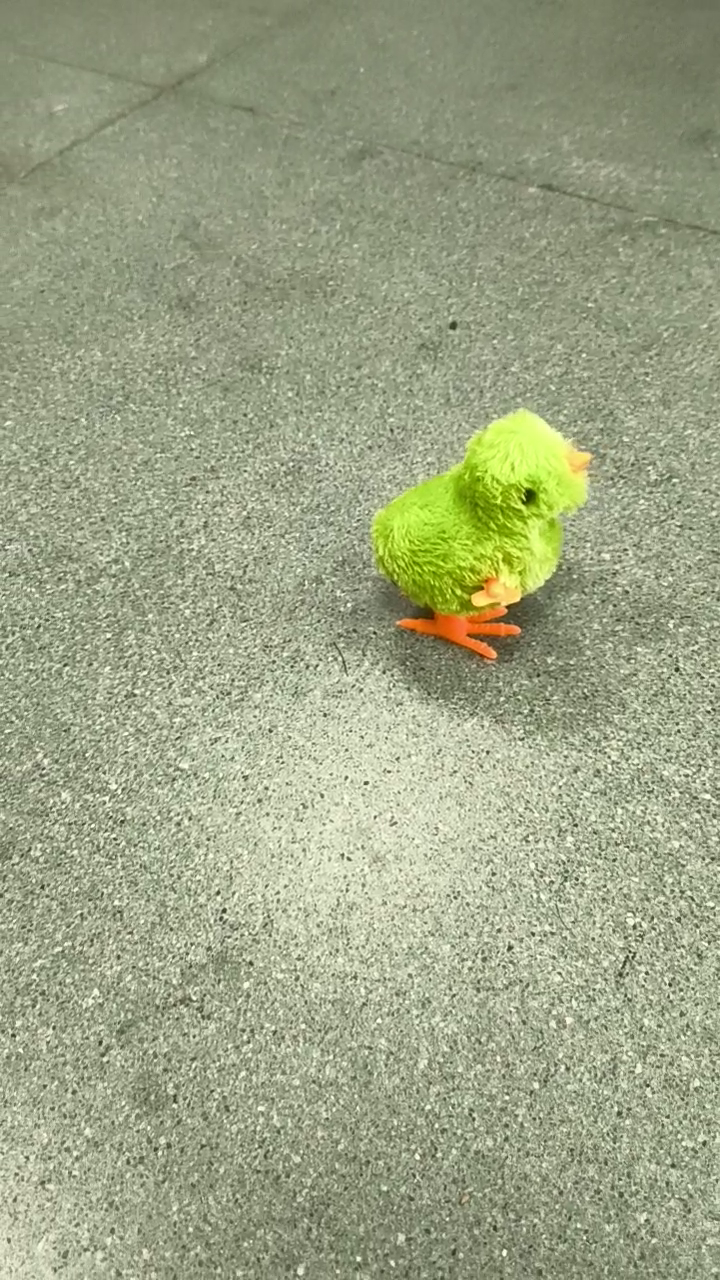green chicken: (367, 404, 598, 666)
